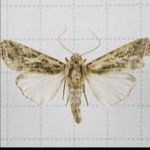Spodoptera litura: (0, 26, 149, 125)
